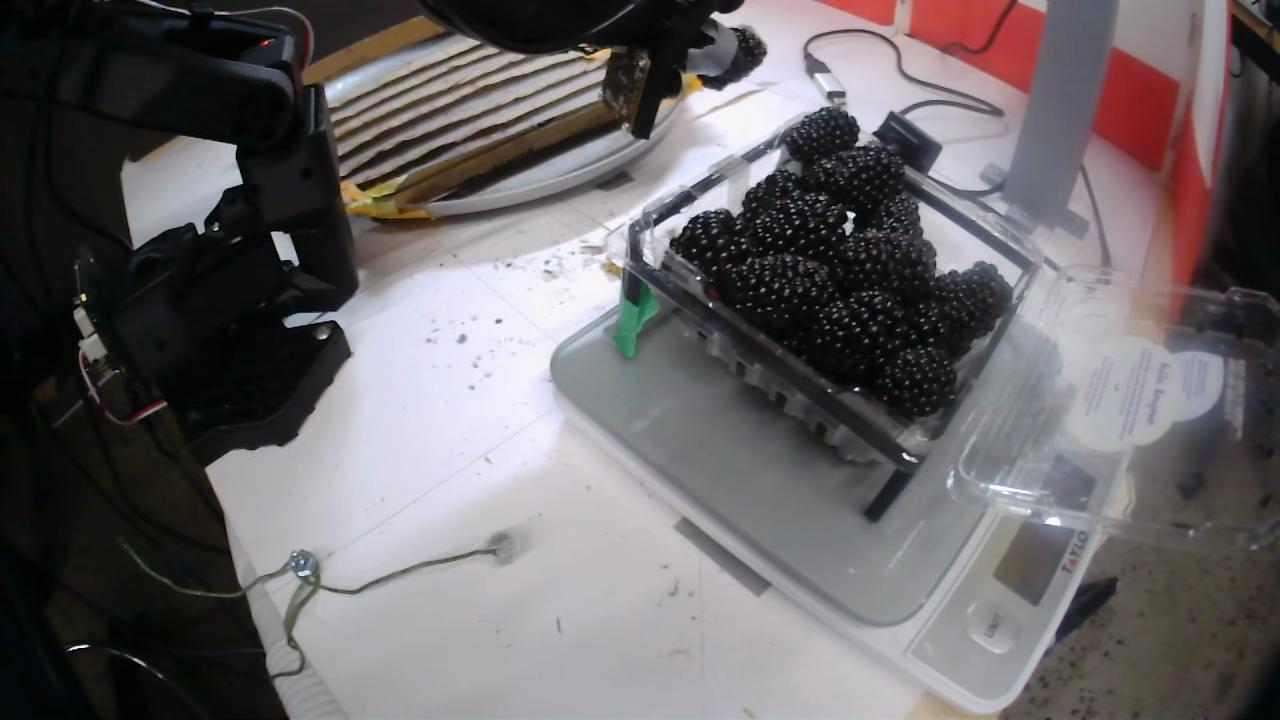berry: (807, 289, 914, 387), (727, 254, 833, 325), (937, 261, 1012, 354), (806, 146, 903, 214), (741, 192, 844, 256), (870, 346, 955, 418), (841, 226, 935, 291), (783, 106, 860, 167), (698, 25, 766, 90), (669, 209, 734, 269), (739, 169, 796, 227), (857, 188, 922, 238), (900, 299, 952, 348)
